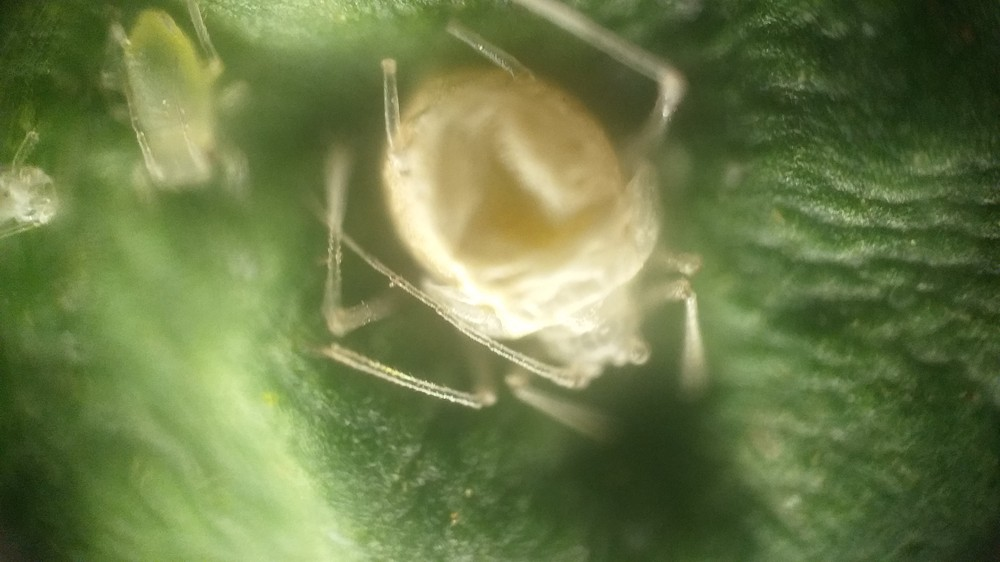Pulgon: (289, 11, 768, 466), (79, 7, 260, 215)
